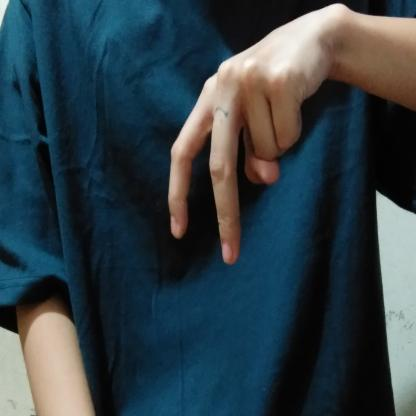run: (165, 13, 324, 274)
